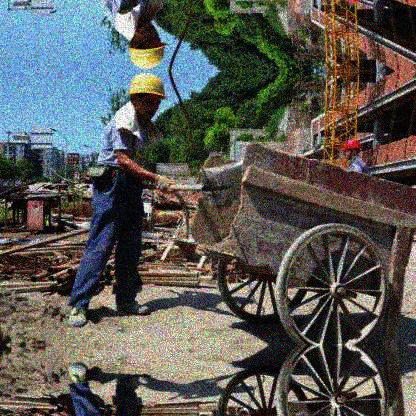helmet: (127, 73, 170, 121), (128, 24, 169, 70), (342, 140, 361, 159)
